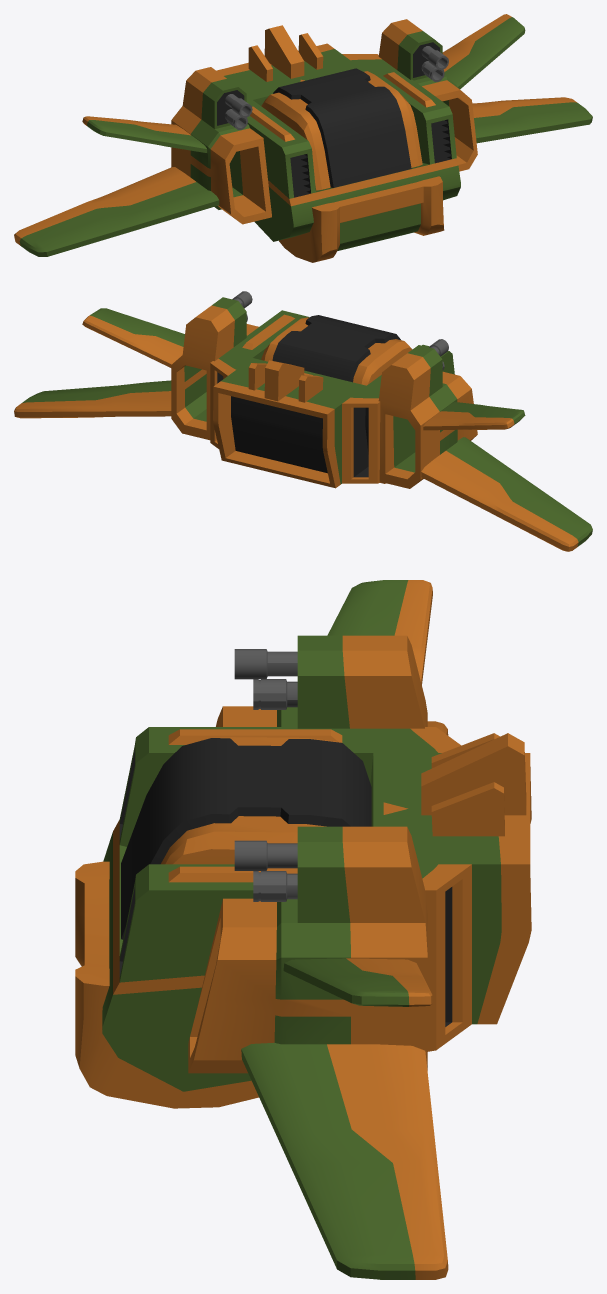
The model's file is ship-c.glb.
3 views of the same model, one above another, from view 1: azimuth 30°, elevation 25°; view 2: azimuth 150°, elevation 25°; view 3: azimuth 270°, elevation 25° (orthographic). The views are drawn at different scales.
Parts seen in each view (by area): view 1: Spaceship_FinnTheFrog; view 2: Spaceship_FinnTheFrog; view 3: Spaceship_FinnTheFrog.
Part boxes in pixels (x1,y1,x2,y2): Spaceship_FinnTheFrog: (14,14,592,262); Spaceship_FinnTheFrog: (14,291,592,551); Spaceship_FinnTheFrog: (75,580,531,1279).
Bounding box in the file's own units: 11.62 × 3.06 × 4.11.
1 material, 1 textured.
